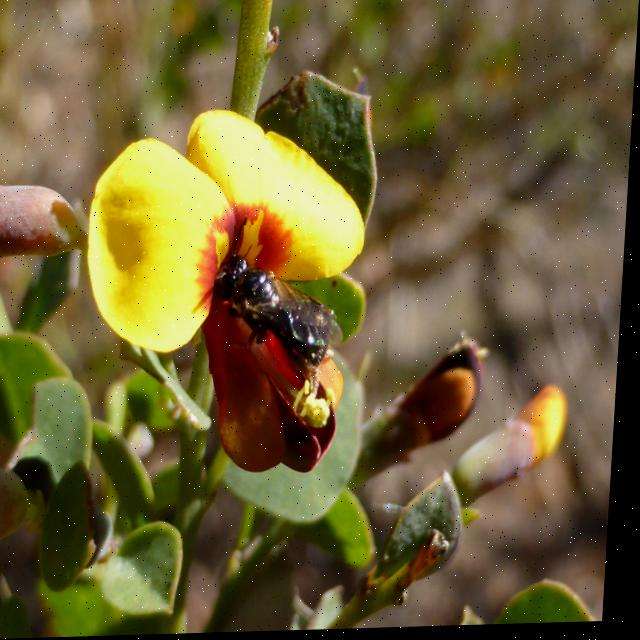Braunsapis: (214, 224, 365, 376)
